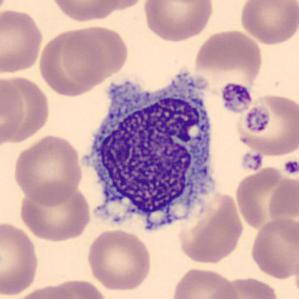Monocyte: (77, 68, 225, 238)
Platelets: (220, 82, 254, 116), (242, 106, 272, 136), (239, 151, 264, 172), (282, 158, 298, 176)
RBC: (11, 133, 85, 205), (36, 26, 106, 98), (191, 27, 265, 90), (17, 182, 93, 243), (85, 227, 154, 293), (233, 164, 298, 232), (60, 23, 130, 86), (236, 91, 298, 158), (248, 216, 298, 281), (0, 220, 42, 297), (141, 0, 215, 43), (0, 7, 45, 75), (237, 0, 298, 46), (169, 266, 240, 299), (0, 73, 29, 149), (48, 0, 124, 23), (218, 274, 282, 299), (44, 276, 113, 299), (8, 283, 82, 299), (93, 0, 148, 14)
